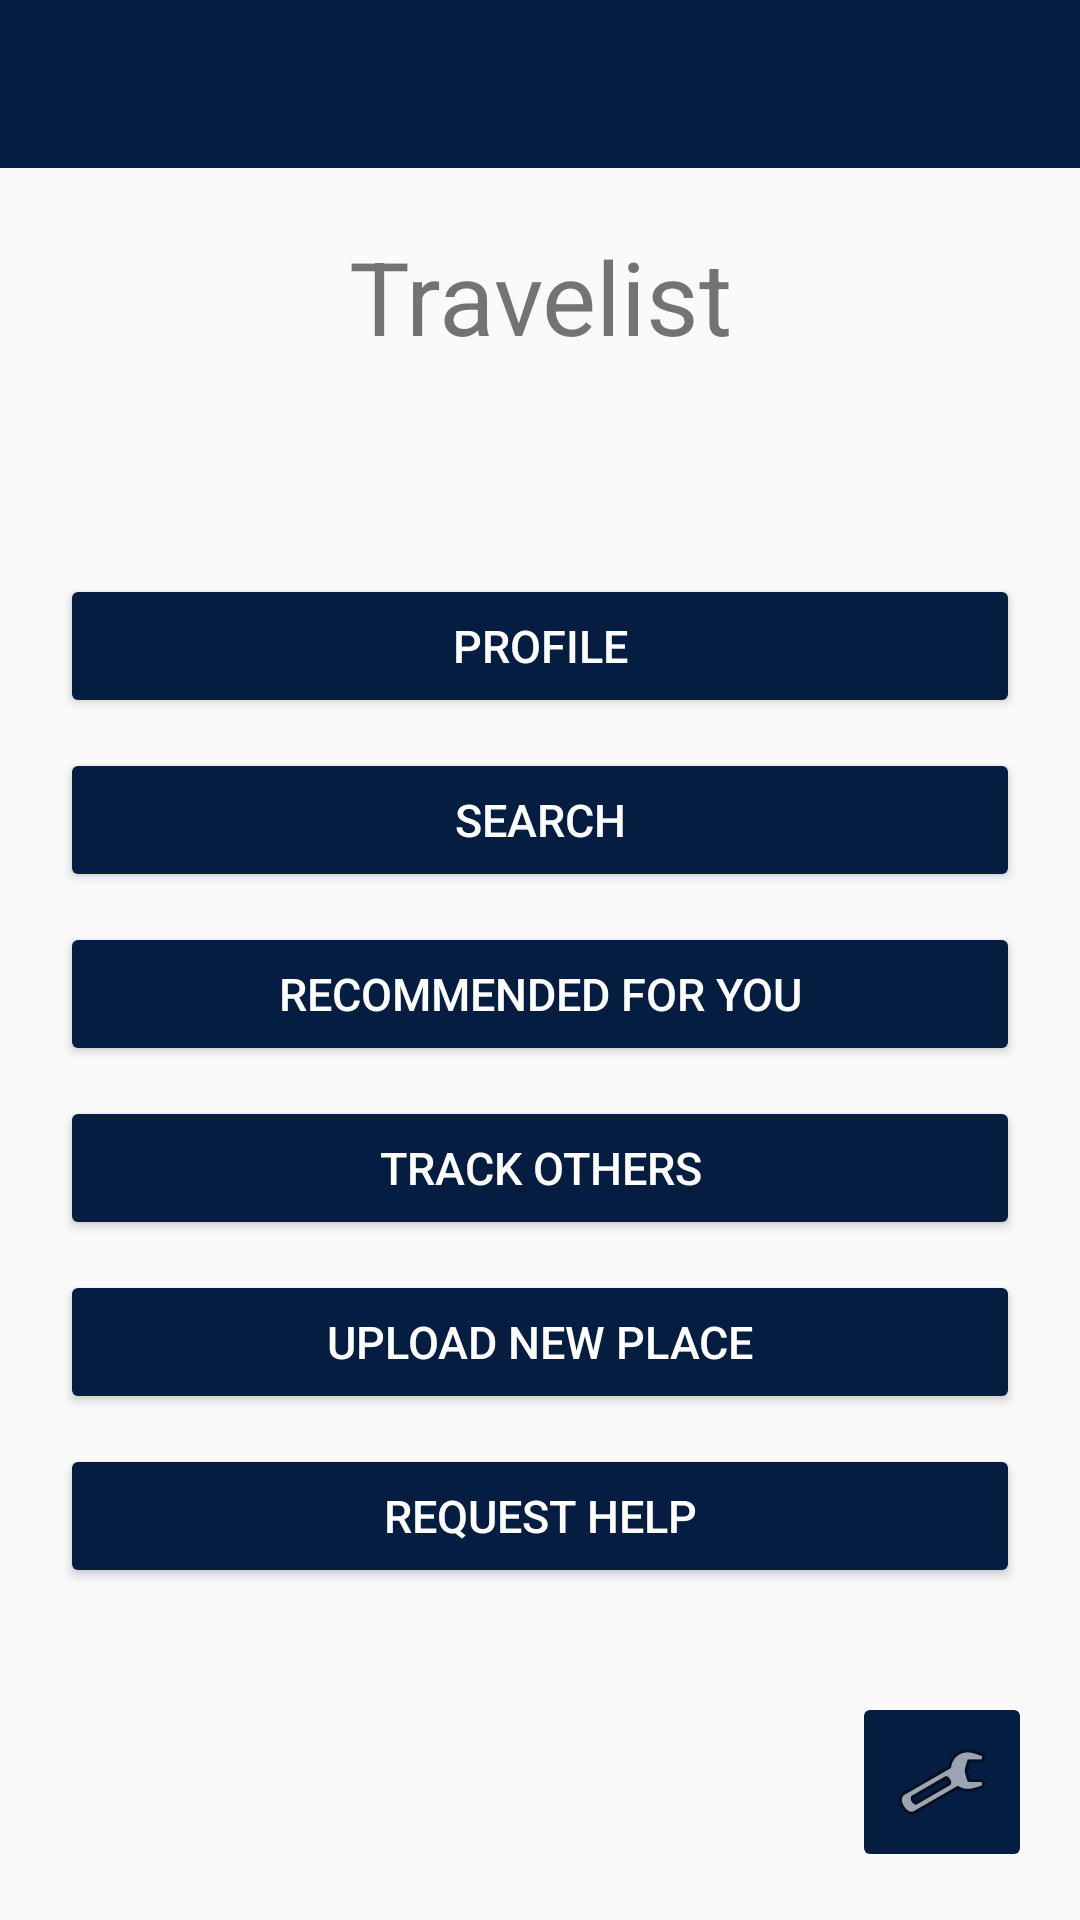

Screen size 1080*1920. Icon name, then its box in pixels as (x1, y1, x2, y2):
preferences: (864, 1710, 1020, 1854)
